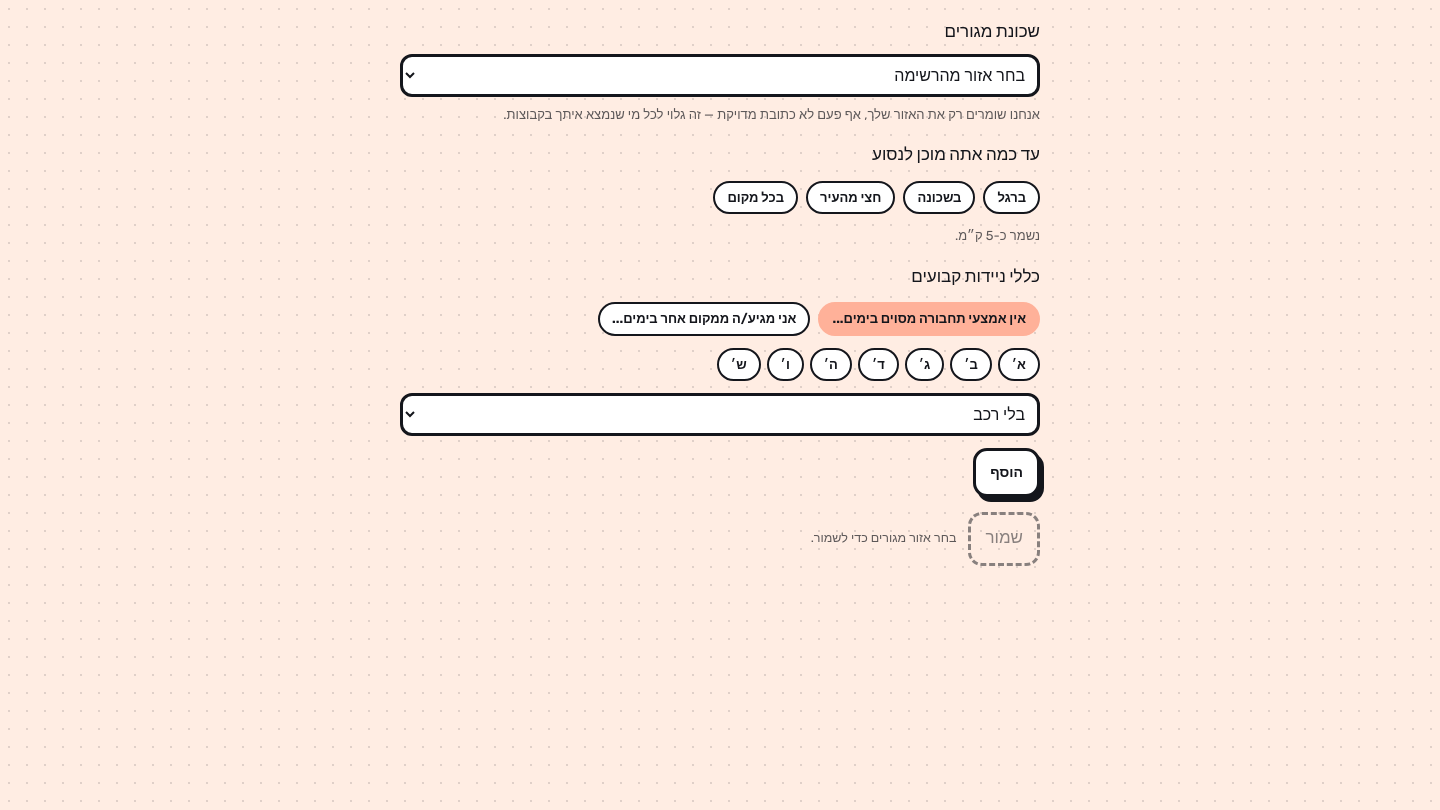
Test case: saving sends the picked area's name AND its coordinates (#132)
The width and height of the screenshot is (1440, 810).
Check: the button "ברגל" is shown, box [983,180,1040,214]
Select "נווה צדק, תל אביב" in the dropdown named "שכונת מגורים" at coordinates (720, 75), box [400,54,1040,96]
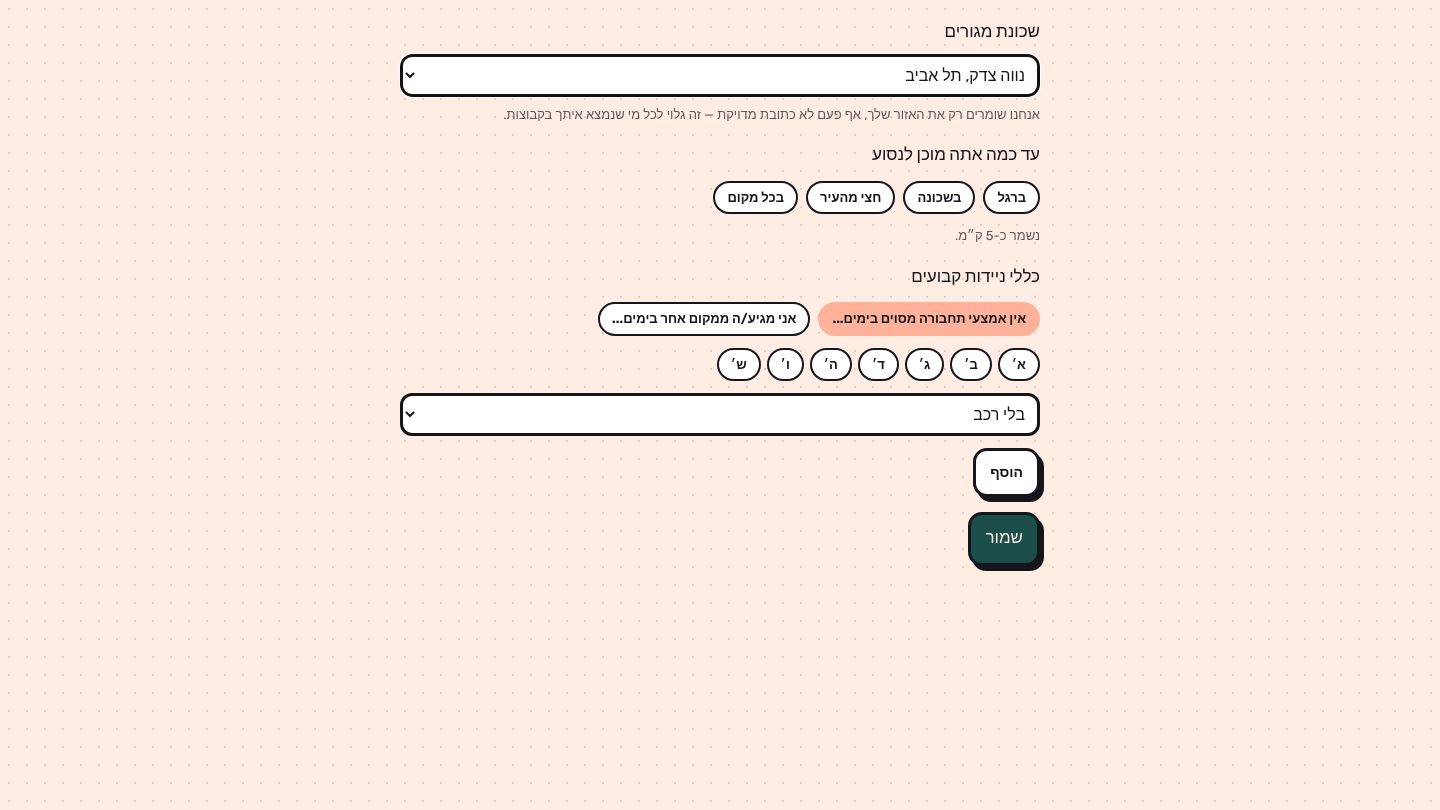
Click the button "בכל מקום" at coordinates (756, 197), box [713,180,798,214]
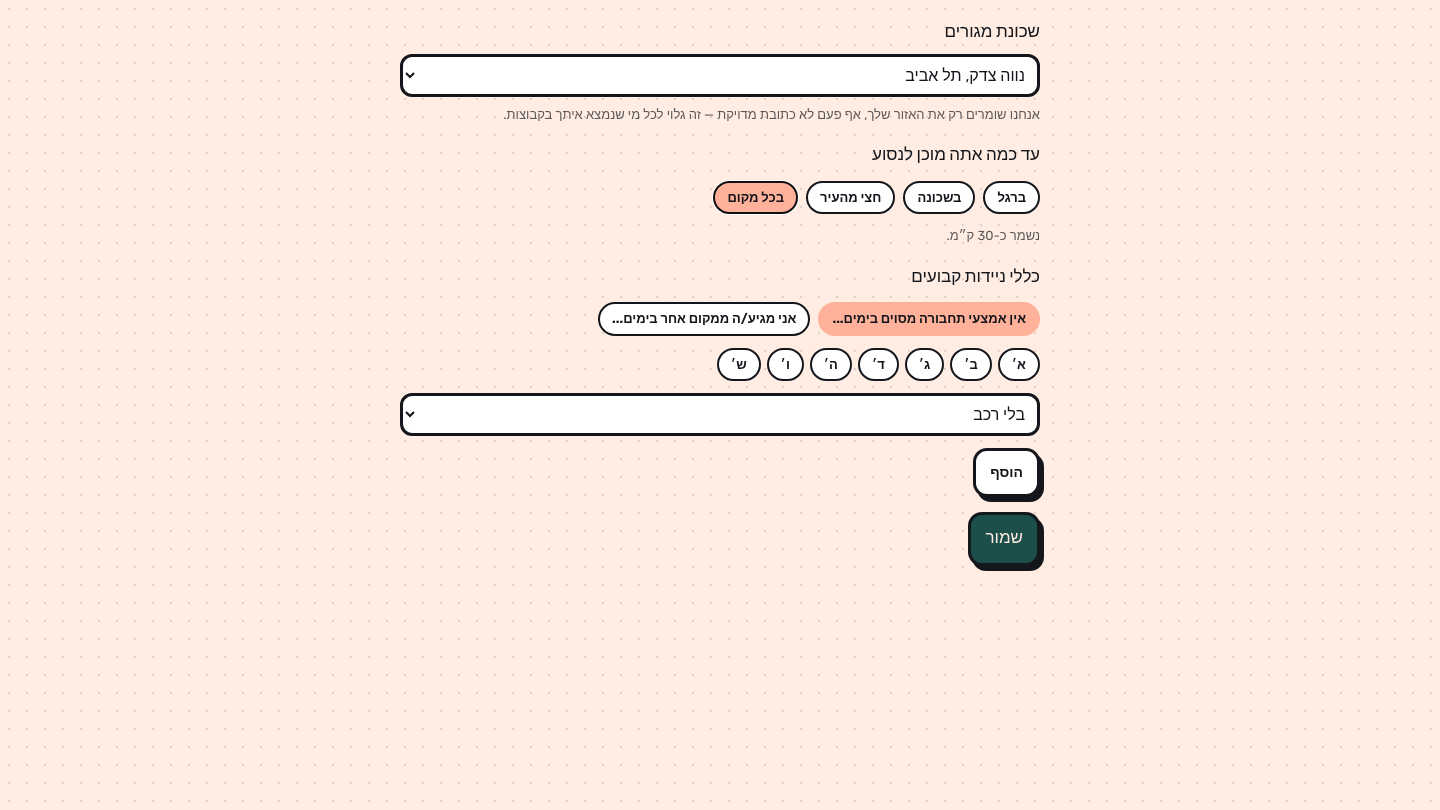
Click the button "שמור" at coordinates (1004, 539), box [968,512,1040,566]
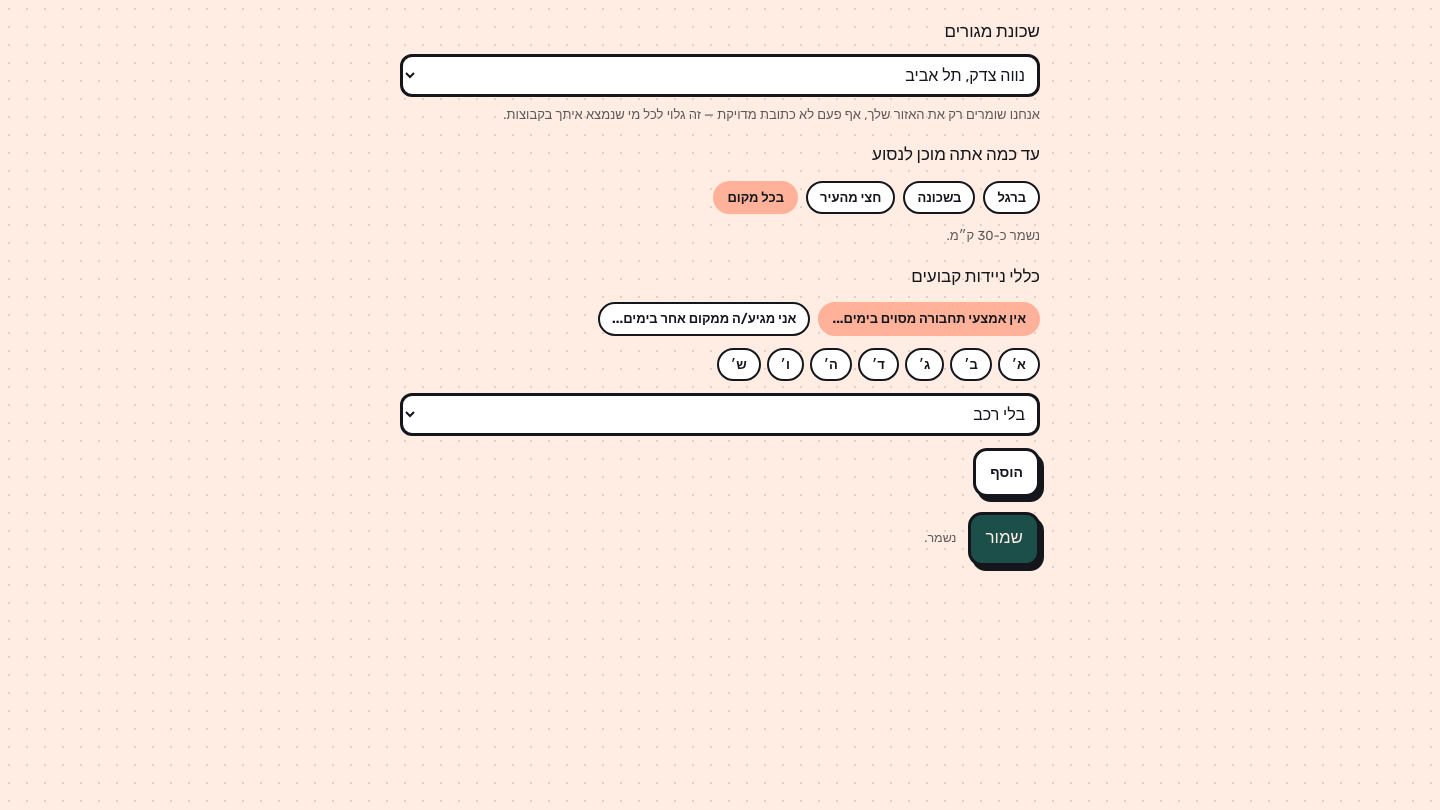
Check: the text "נשמר." is shown, box [924,529,956,548]
